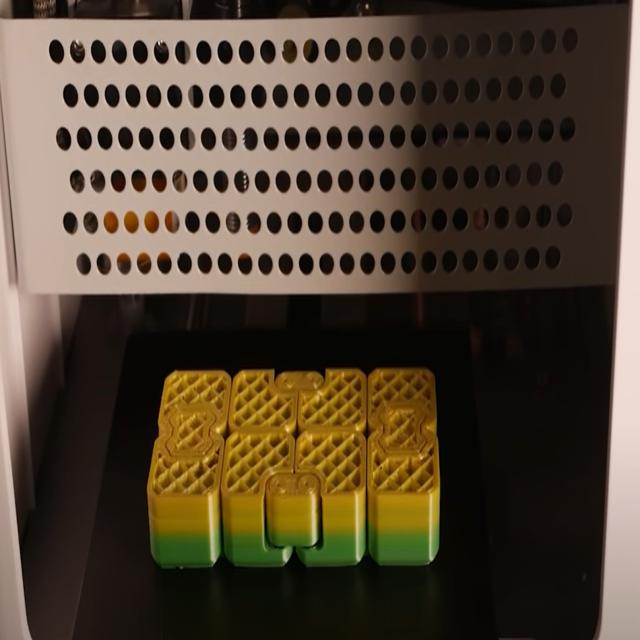Without deffect: (148, 324, 452, 596)
